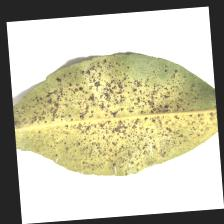canker: (69, 74, 164, 156)
